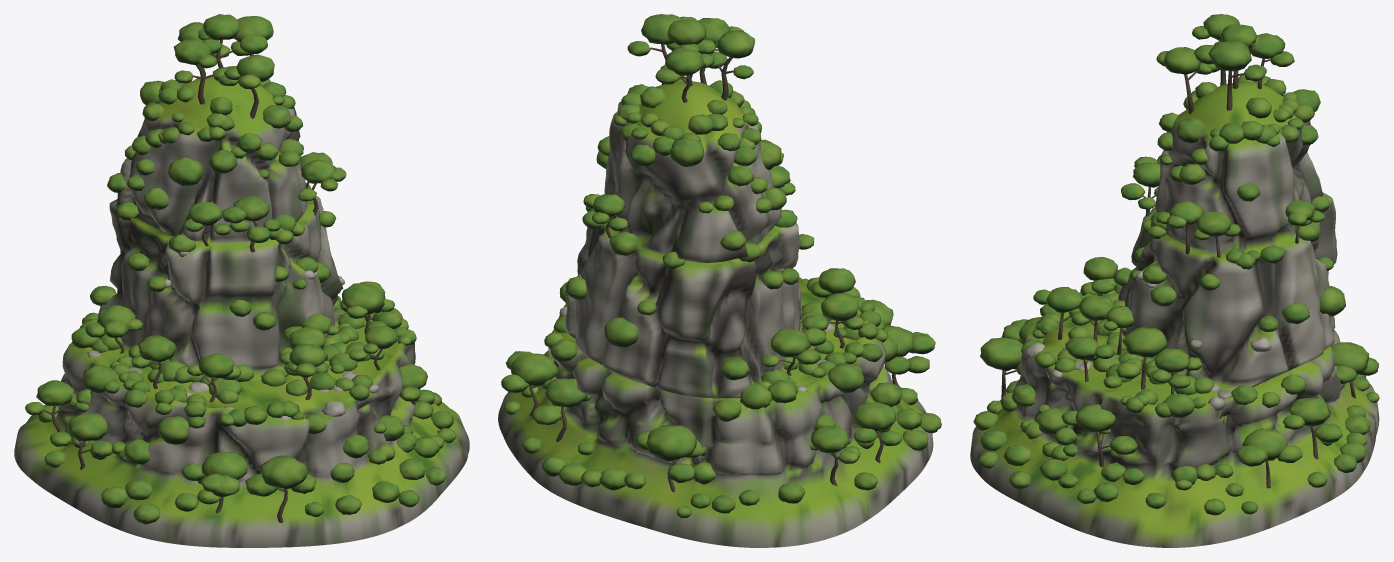
The model's file is rockisle.glb.
3 views of the same model, side by side, from view 1: azimuth 30°, elevation 25°; view 2: azimuth 150°, elevation 25°; view 3: azimuth 270°, elevation 25° (orthographic). The views are drawn at different scales.
Visible parts, largest first — view 1: rock, trees, boulders; view 2: rock, trees; view 3: rock, trees, boulders.
Boxes of the visible parts, x1,y1,x2,y2 form: rock: [14, 76, 469, 547]; trees: [25, 14, 456, 524]; boulders: [87, 252, 379, 420]; rock: [498, 81, 933, 547]; trees: [501, 14, 941, 517]; rock: [970, 82, 1379, 547]; trees: [973, 14, 1379, 515]; boulders: [1025, 271, 1271, 411].
Bounding box in the file's own units: 85.8 × 90.19 × 78.8.
